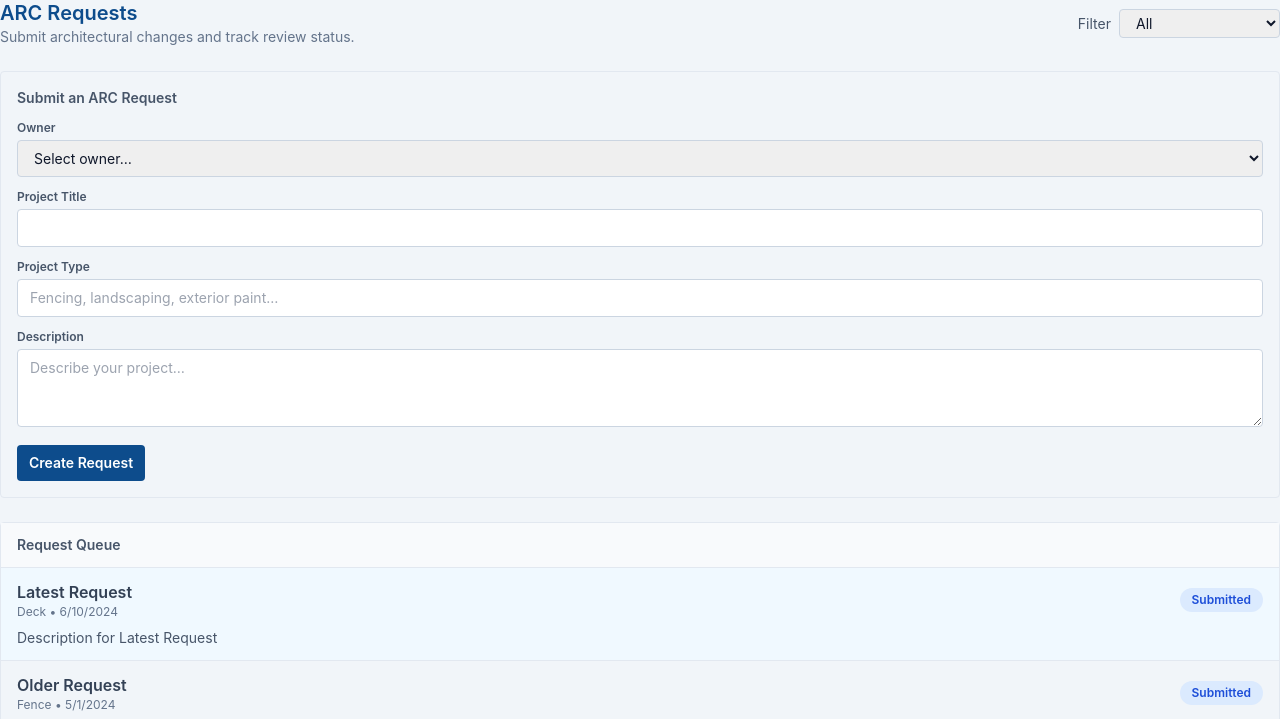
Scenario: ARCPage › shows the request queue for board members and updates selection on click
The image size is (1280, 719).
Check: the heading "Request Queue" is shown, box [17,536,120,553]
What coordinates should you click on to do the following:
click the text "Older Request"
I would click on:
 (72, 685)
Its box is [17,673,127,697].
(page scrolled)
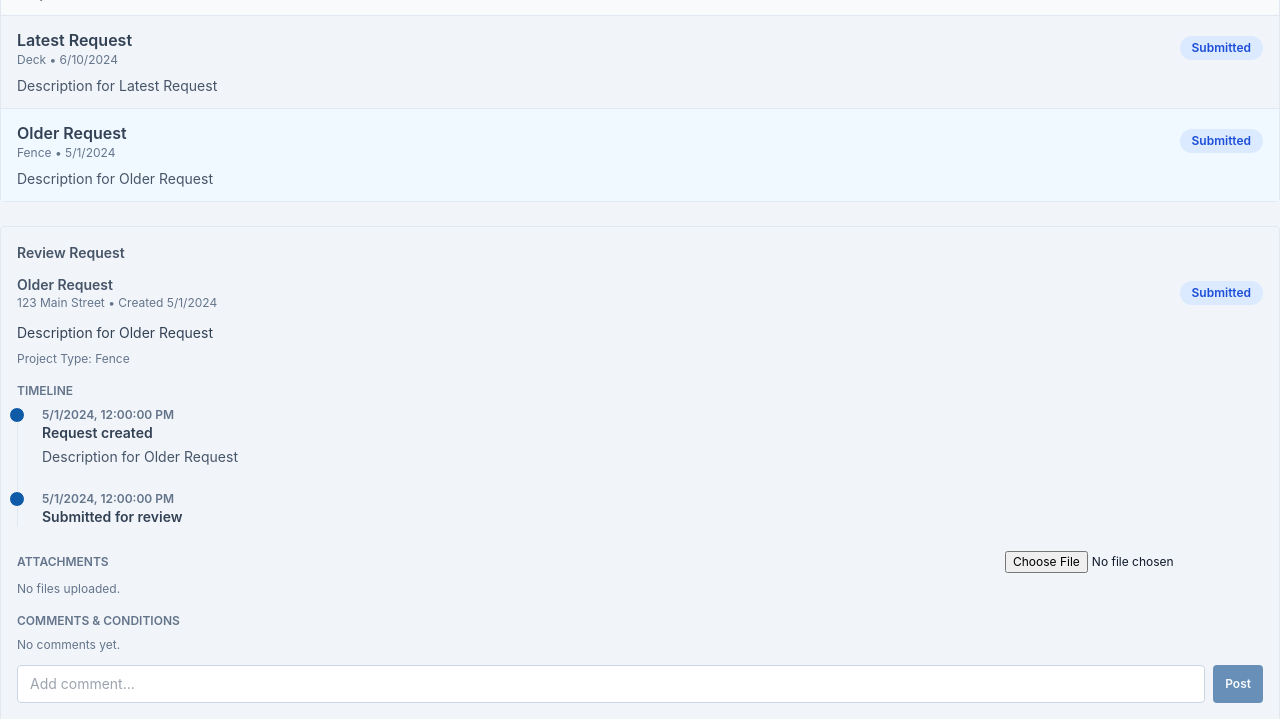
Check: the text "Project Type: Fence" is shown, box [17,351,130,366]
